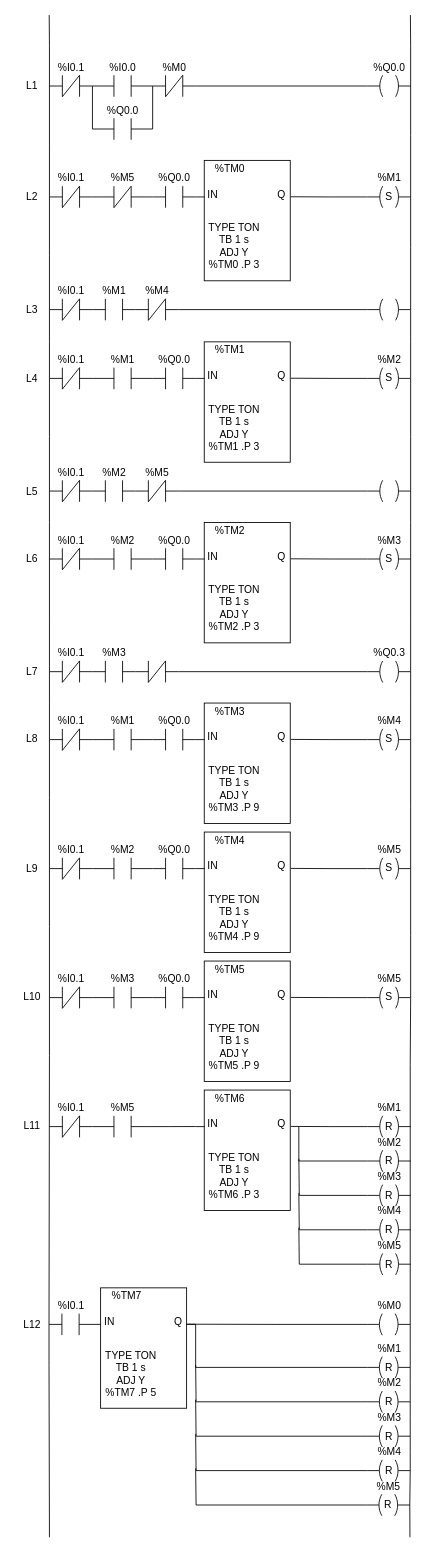
Some shapes in this 427 by 1553 pixel diagram are drawn without their labels. The centre of each missing label's shape, as x and y in pixels:
%M6: the point at 156,671
%Q0.1: the point at 389,309
%Q0.2: the point at 389,490
